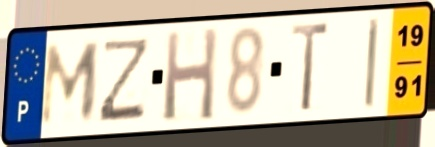8: (223, 24, 268, 120)
H: (161, 24, 220, 124)
I: (362, 15, 382, 113)
M: (37, 39, 105, 128)
T: (288, 20, 333, 116)
Z: (95, 35, 154, 126)
